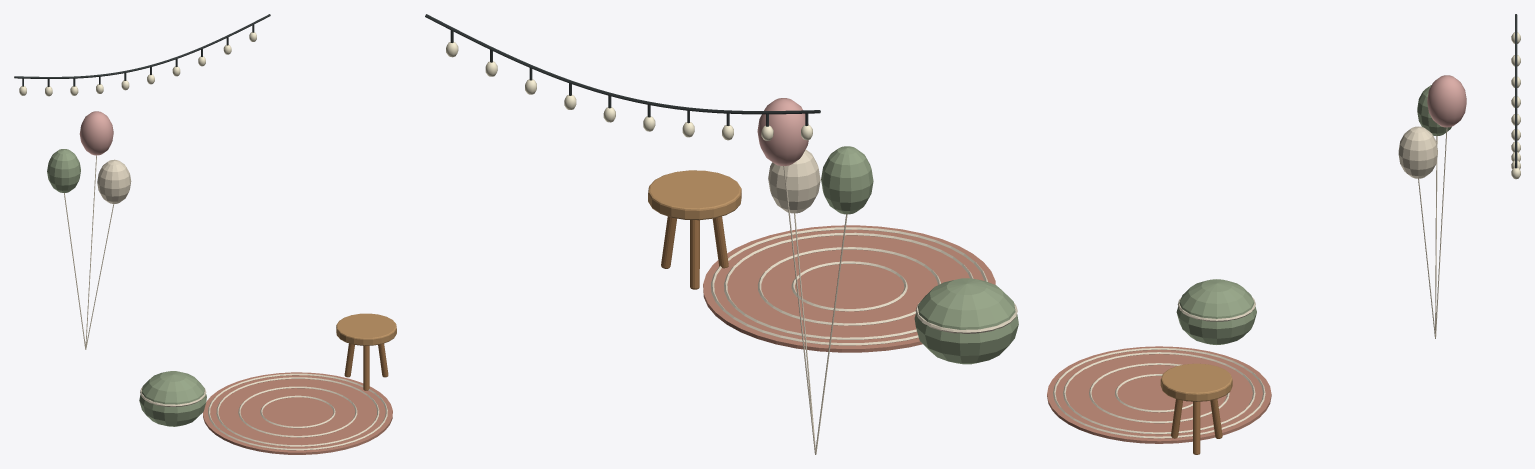
Rendered from SM_CreatorCoupleHouse_Decorations.fbx.
3 renders of one model, left to right at view 1: azimuth 30°, elevation 25°; view 2: azimuth 150°, elevation 25°; view 3: azimuth 270°, elevation 25°, orthographic. The views are drawn at different scales.
Visible parts, largest first — view 1: SM_CreatorCoupleHouse_Decorations; view 2: SM_CreatorCoupleHouse_Decorations; view 3: SM_CreatorCoupleHouse_Decorations.
Part boxes in pixels (x1=…): SM_CreatorCoupleHouse_Decorations: x1=14, y1=14, x2=396, y2=454; SM_CreatorCoupleHouse_Decorations: x1=425, y1=14, x2=1018, y2=454; SM_CreatorCoupleHouse_Decorations: x1=1047, y1=14, x2=1520, y2=454.
Size of what is drawn, in the model's own units: 242 by 329 by 237.
